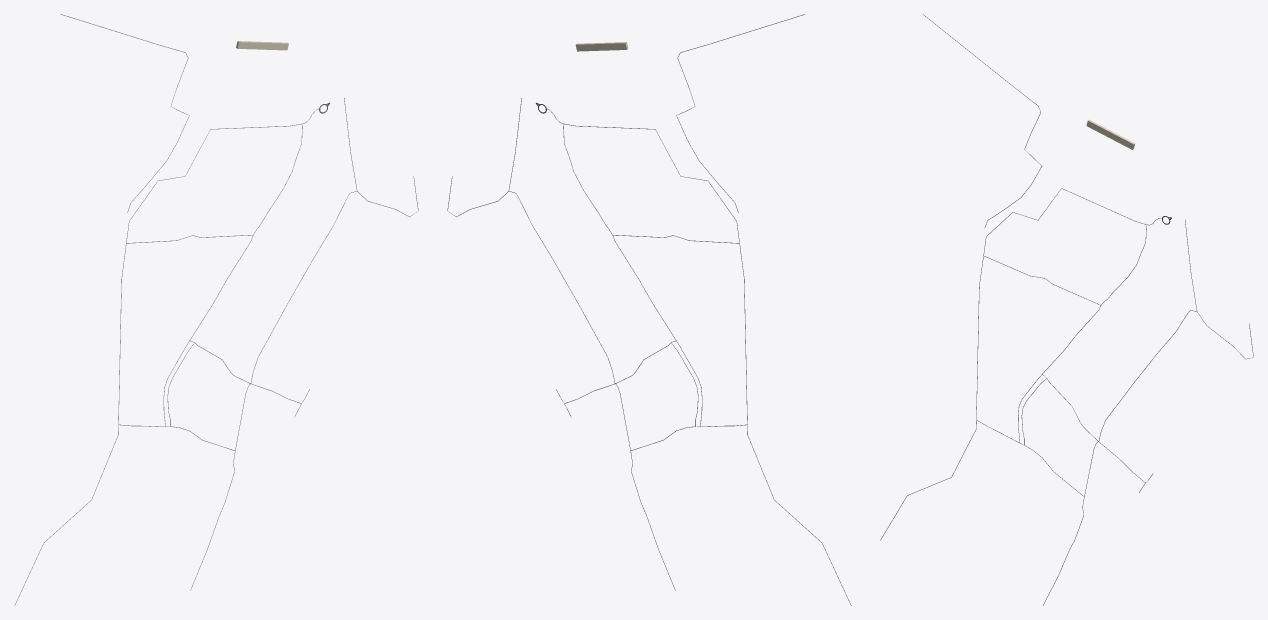
The model's file is historic-palestine-04_22_3461_3165.glb.
3 views of the same model, side by side, from view 1: azimuth 30°, elevation 25°; view 2: azimuth 150°, elevation 25°; view 3: azimuth 330°, elevation 25° (orthographic). The views are drawn at different scales.
Visible parts, largest first — view 1: Road; view 2: Road; view 3: Road.
Boxes of the visible parts, x1,y1,x2,y2 form: Road: (14,108,318,605); Road: (547,108,851,605); Road: (880,188,1161,540).
Bounding box in the file's own units: 1207 × 1736 × 8.7.
